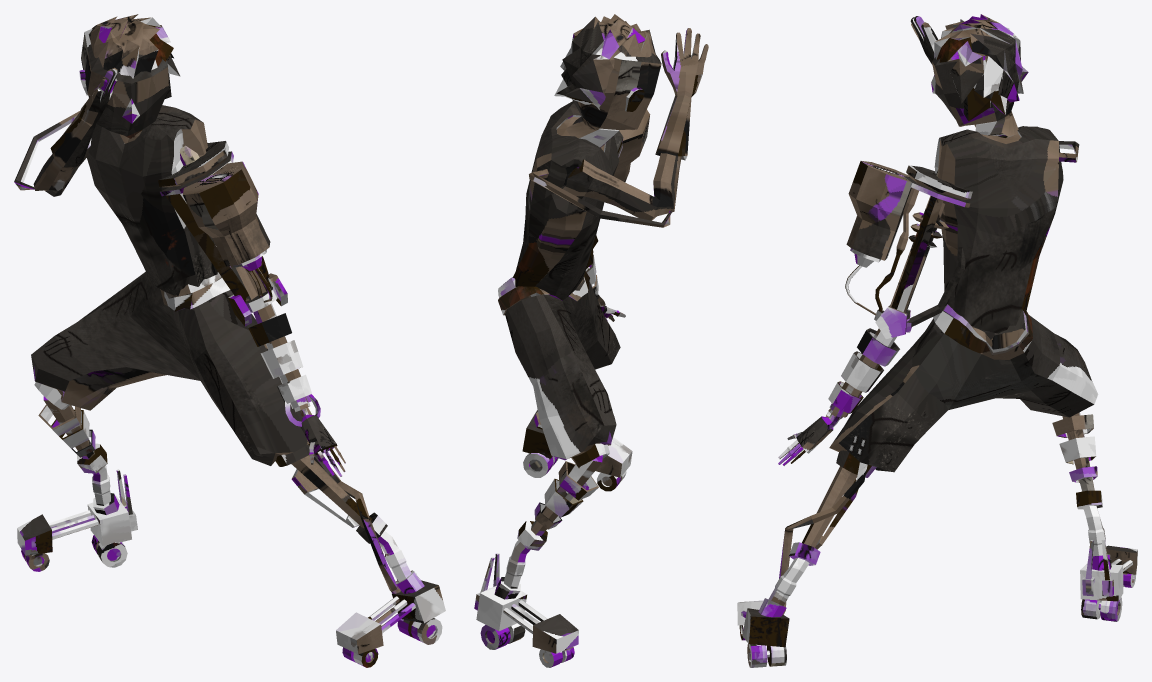
The model's file is CyborgFINALAnimation_000037.obj.
The picture shows the model from 3 angles, left to right: view 1: azimuth 30°, elevation 25°; view 2: azimuth 150°, elevation 25°; view 3: azimuth 270°, elevation 25°; orthographic projection. The views are drawn at different scales.
Visible parts, largest first — view 1: CyborgMesh_Cube.002; view 2: CyborgMesh_Cube.002; view 3: CyborgMesh_Cube.002.
Boxes of the visible parts, x1,y1,x2,y2 form: CyborgMesh_Cube.002: (14, 14, 445, 667); CyborgMesh_Cube.002: (474, 14, 708, 667); CyborgMesh_Cube.002: (737, 14, 1137, 667).
Bounding box in the file's own units: 4.23 × 8.65 × 5.44.
